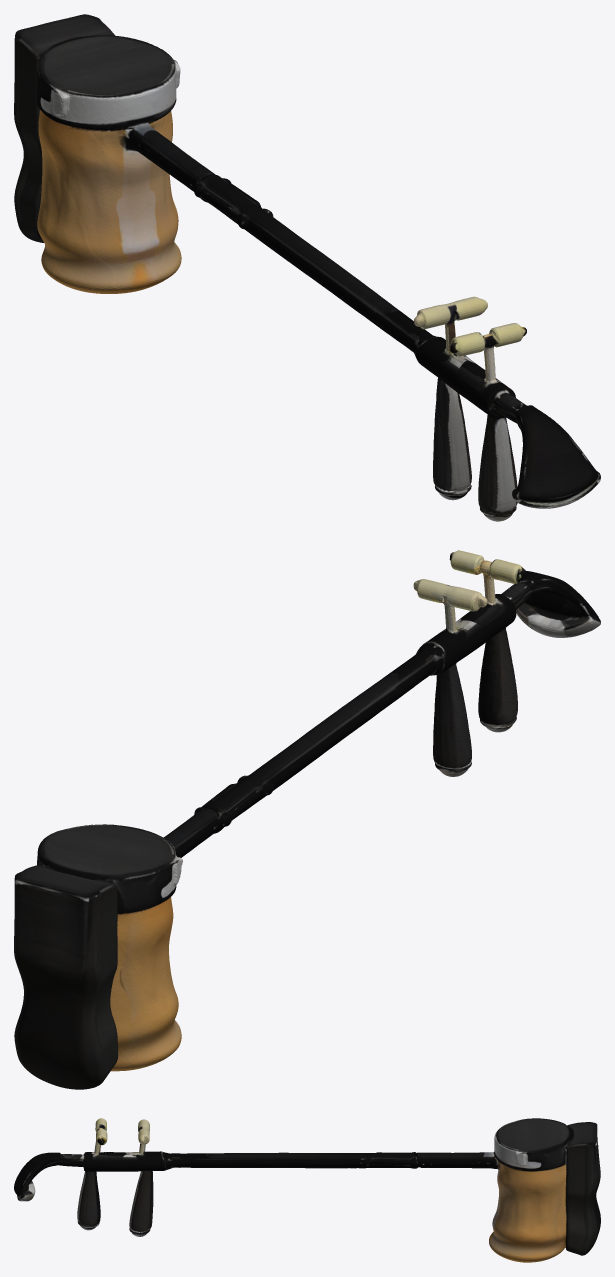
3 renders of one model, top to bottom at view 1: azimuth 30°, elevation 25°; view 2: azimuth 150°, elevation 25°; view 3: azimuth 270°, elevation 25°, orthographic. The views are drawn at different scales.
Visible parts, largest first — view 1: tripo_node_0104894d-81bd-47dc-800e-92f0bce25c0c; view 2: tripo_node_0104894d-81bd-47dc-800e-92f0bce25c0c; view 3: tripo_node_0104894d-81bd-47dc-800e-92f0bce25c0c.
Part boxes in pixels (x1,y1,x2,y2): tripo_node_0104894d-81bd-47dc-800e-92f0bce25c0c: (14,14,600,521); tripo_node_0104894d-81bd-47dc-800e-92f0bce25c0c: (14,550,600,1089); tripo_node_0104894d-81bd-47dc-800e-92f0bce25c0c: (14,1118,600,1262).
Size of the model in its own units: 14.9 by 25.39 by 108.
1 material, 1 textured.
